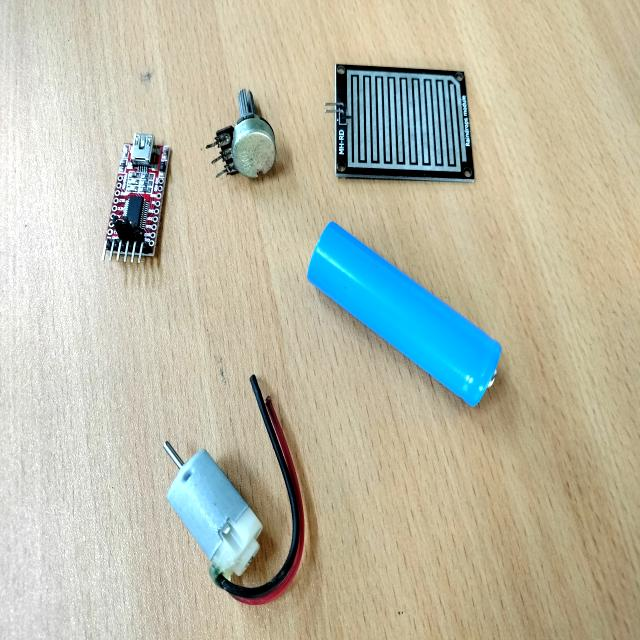3-3-Volt-Battery: (300, 216, 517, 433)
DC-Motor: (125, 346, 322, 622)
FT-232-USB-Serial-Module: (86, 119, 182, 290)
Raindrops-Module: (313, 44, 490, 214)
Taper-Potentiometer: (194, 71, 284, 201)
